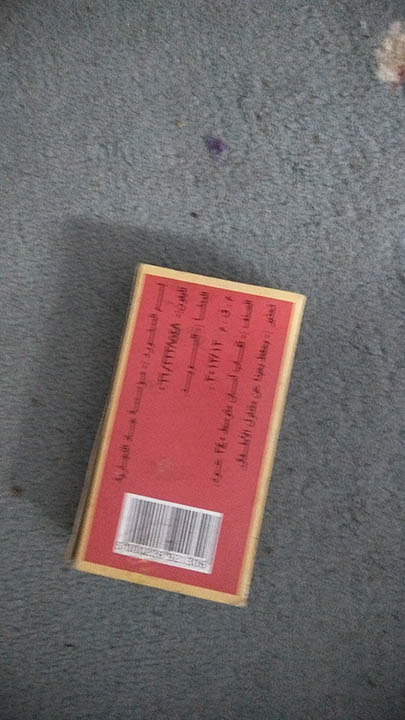match-sticks .90$: (76, 256, 299, 612)
